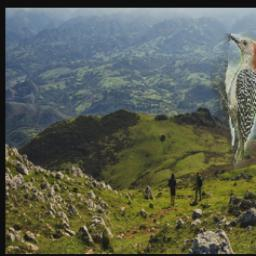Woodpecker: (212, 34, 256, 172)
